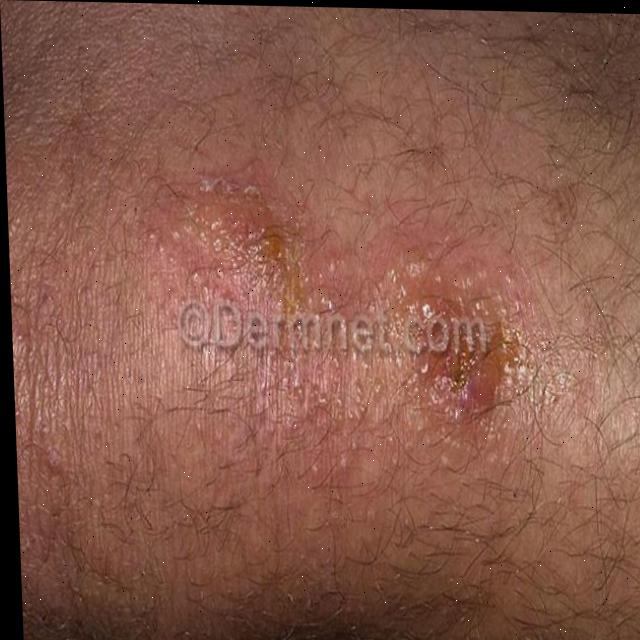Eczema: (198, 184, 488, 407)
